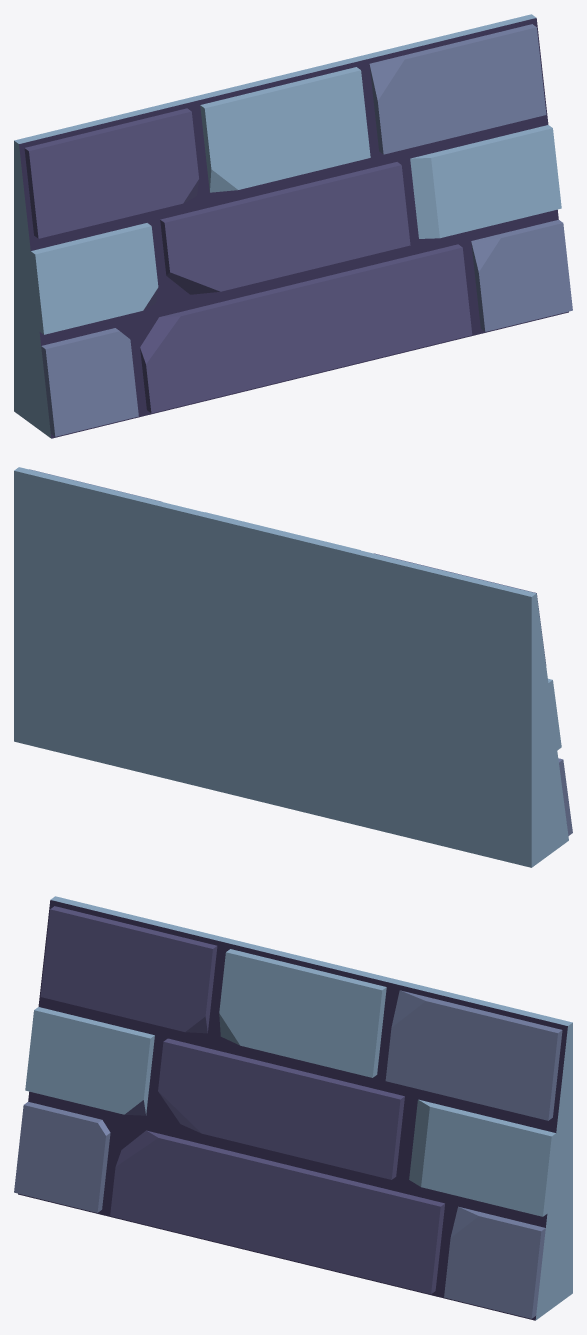
The model's file is Modular Base 02.fbx.
3 renders of one model, top to bottom at view 1: azimuth 30°, elevation 25°; view 2: azimuth 150°, elevation 25°; view 3: azimuth 330°, elevation 25°, orthographic.
Visible parts, largest first — view 1: Modular Base 02; view 2: Modular Base 02; view 3: Modular Base 02.
Part boxes in pixels (bbox=[...]): Modular Base 02: bbox=[14, 14, 572, 438]; Modular Base 02: bbox=[14, 467, 572, 867]; Modular Base 02: bbox=[14, 896, 572, 1320].
Size of the model in its own units: 400 by 200 by 55.26.
